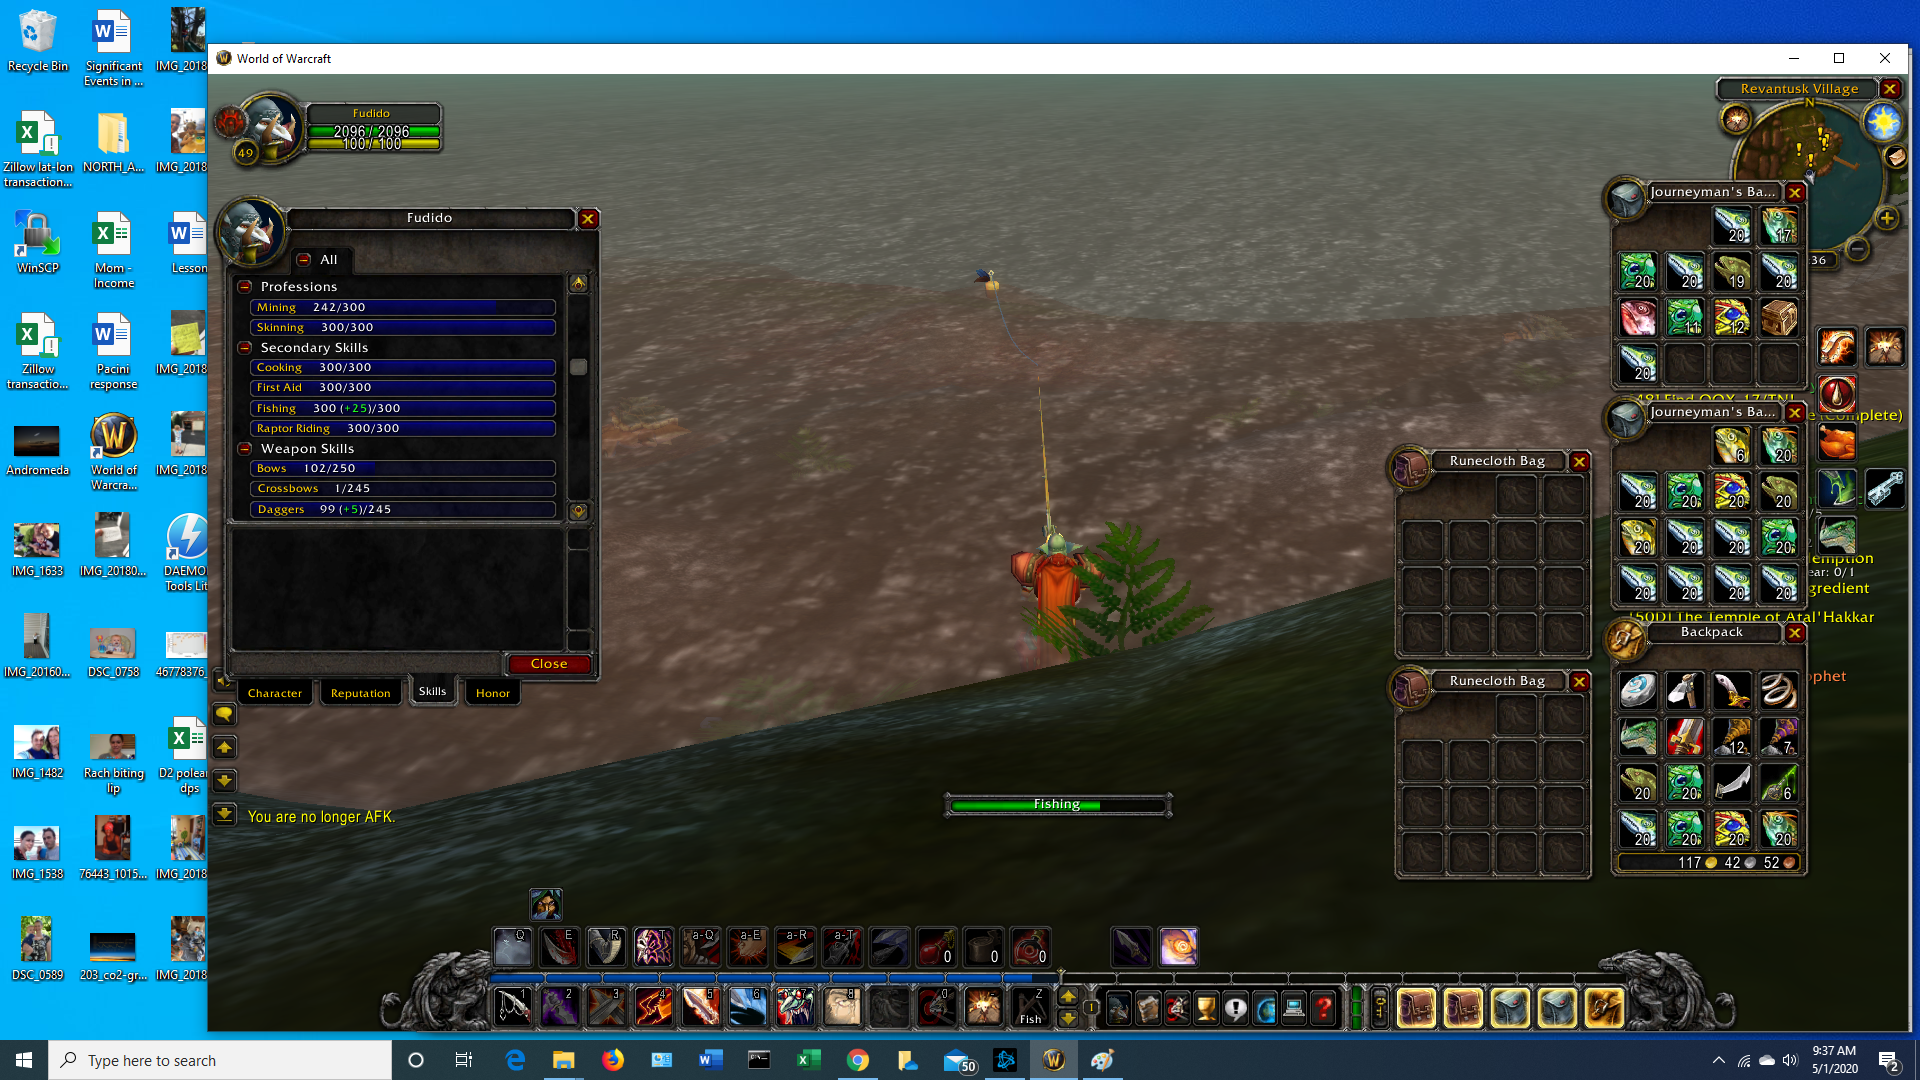bobble: (972, 262, 1005, 297)
